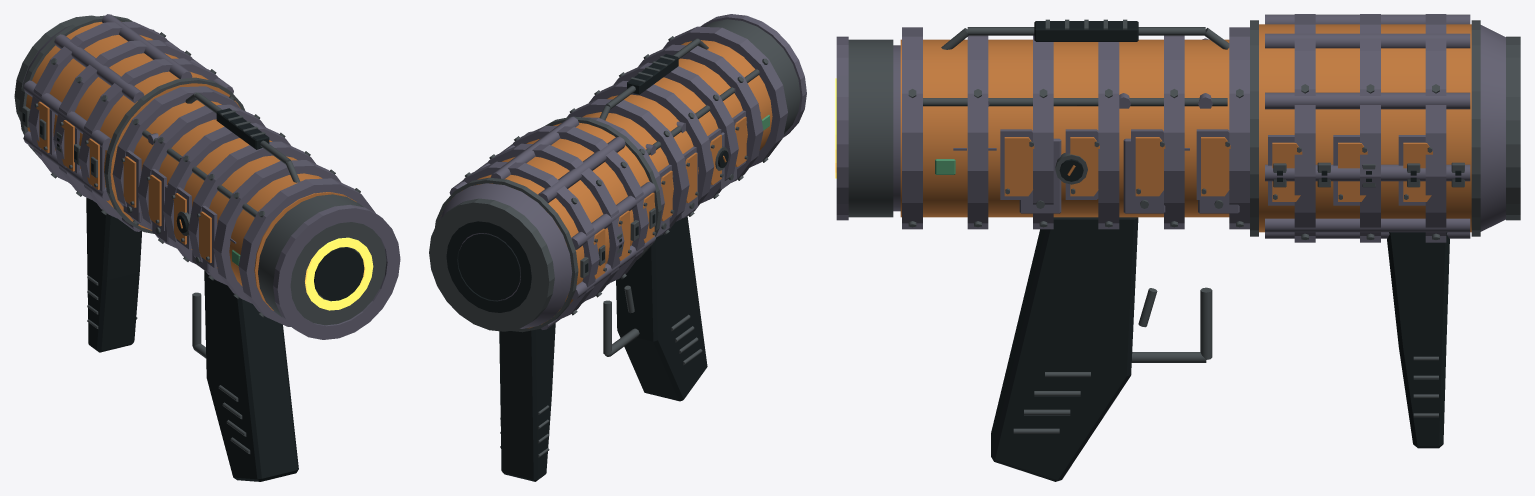
The model's file is heavy_1.glb.
3 views of the same model, side by side, from view 1: azimuth 30°, elevation 25°; view 2: azimuth 150°, elevation 25°; view 3: azimuth 270°, elevation 25° (orthographic). The views are drawn at different scales.
Parts seen in each view (by area): view 1: Weapon_heavy_v1; view 2: Weapon_heavy_v1; view 3: Weapon_heavy_v1.
Part boxes in pixels (<box>): Weapon_heavy_v1: <box>14,14,400,481</box>; Weapon_heavy_v1: <box>429,14,806,481</box>; Weapon_heavy_v1: <box>835,14,1520,481</box>.
Bounding box in the file's own units: 0.154 × 0.3315 × 0.461.
